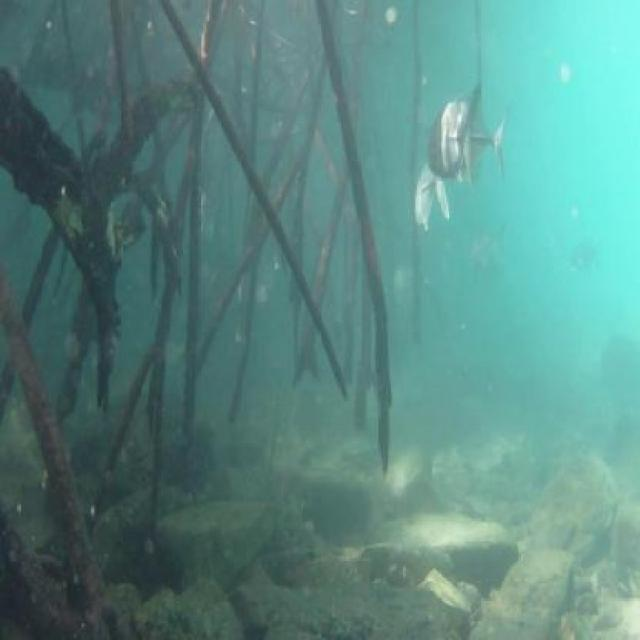Caranx_sexfasciatus_juvenile: (425, 86, 512, 194), (422, 72, 480, 202), (408, 152, 450, 245), (472, 222, 506, 270)
